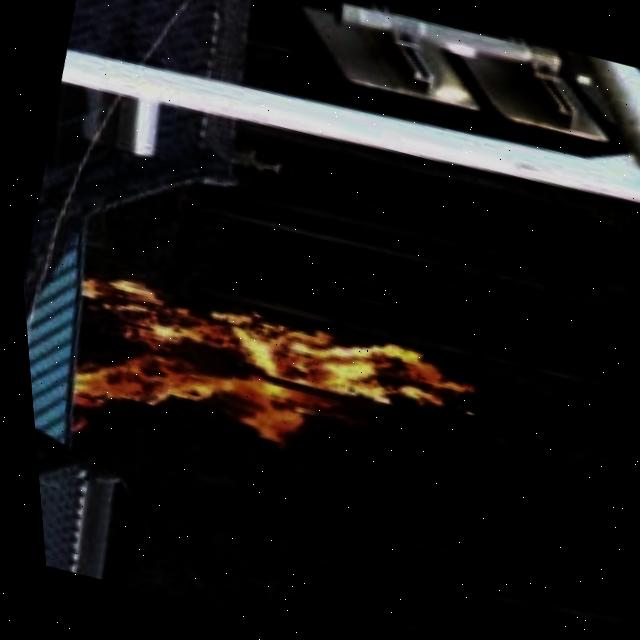Fire: (37, 246, 507, 541)
